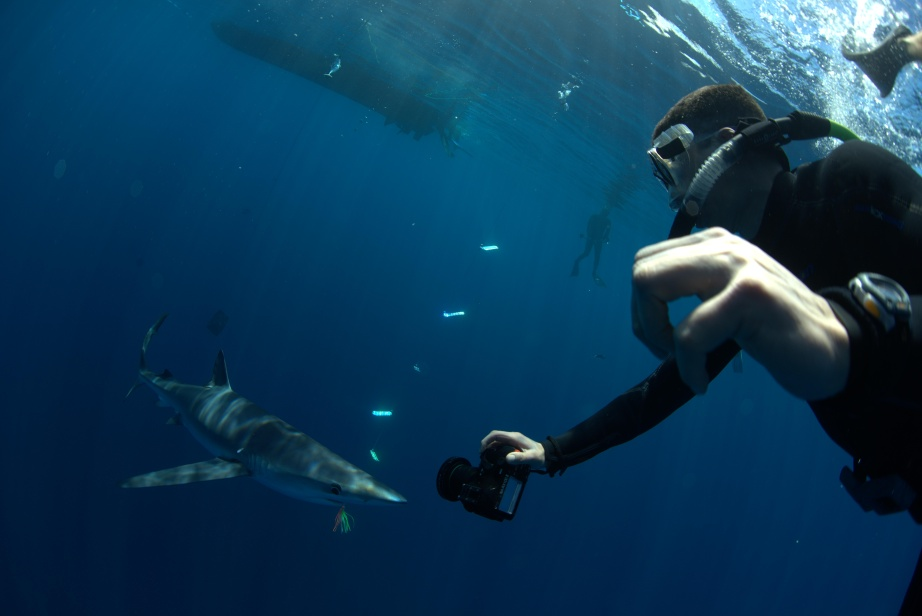Azul: (103, 298, 416, 531)
